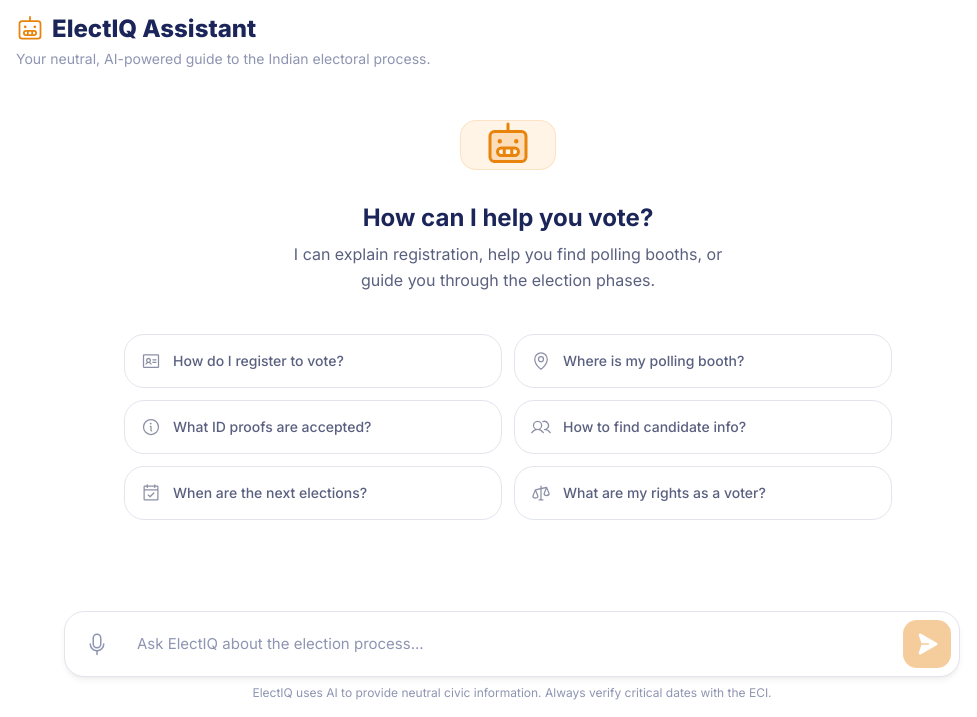
Scenario: ChatInterface › send button enables when user types a message
The image size is (977, 717).
In the text box: (512, 644) [129,620,895,668], type "How do I vote?"
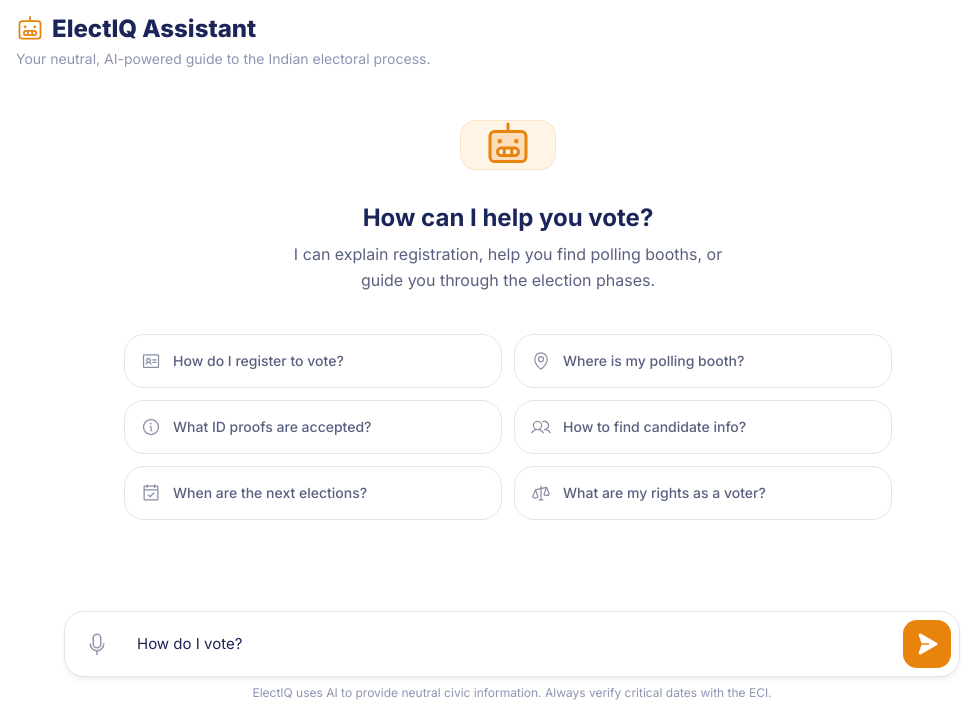
expect the button named "Send message" is enabled: met, box [903,620,951,668]
